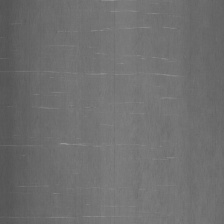waist_folding: (15, 12, 216, 209)
